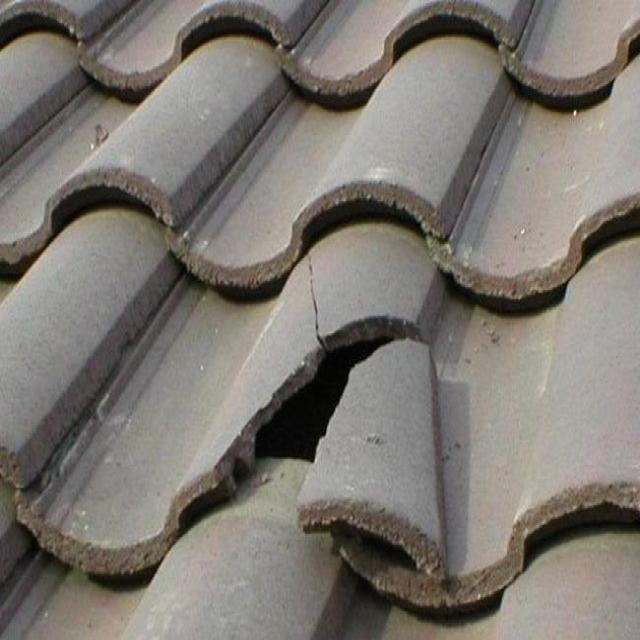damaged_roof: (159, 314, 438, 574)
